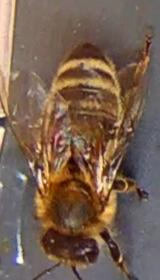varroa_mite: (44, 120, 72, 156)
